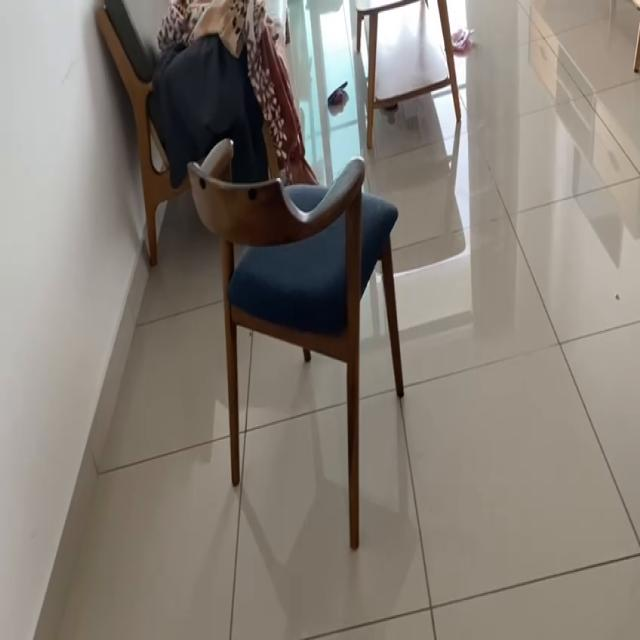Chair: (165, 128, 439, 532)
